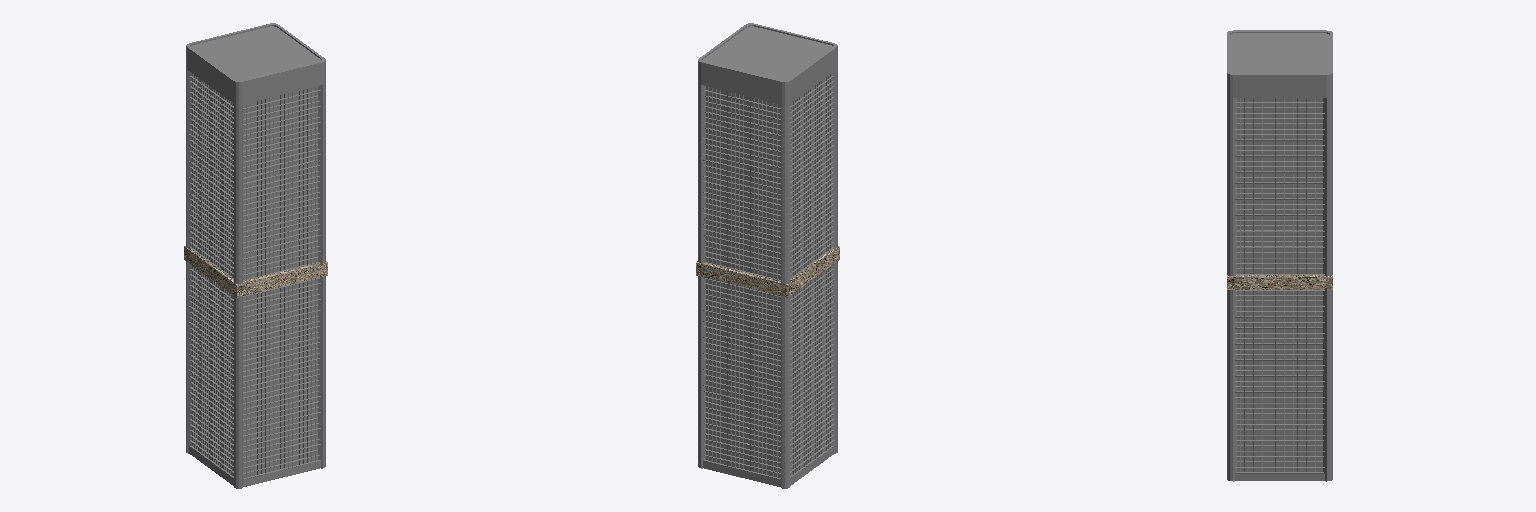
3 views of the same model, side by side, from view 1: azimuth 30°, elevation 25°; view 2: azimuth 150°, elevation 25°; view 3: azimuth 270°, elevation 25° (orthographic).
Visible parts, largest first — view 1: Gengon01, Box01; view 2: Gengon01, Box01; view 3: Gengon01, Box01.
Part boxes in pixels (left/top/right/bottom): Gengon01: left=186, top=23, right=325, bottom=488; Box01: left=184, top=246, right=327, bottom=297; Gengon01: left=698, top=23, right=837, bottom=488; Box01: left=696, top=246, right=839, bottom=297; Gengon01: left=1227, top=30, right=1332, bottom=481; Box01: left=1227, top=275, right=1332, bottom=289.
Size of the model in its own units: 170 by 719 by 170.
Materials: 2 (1 with a texture image).